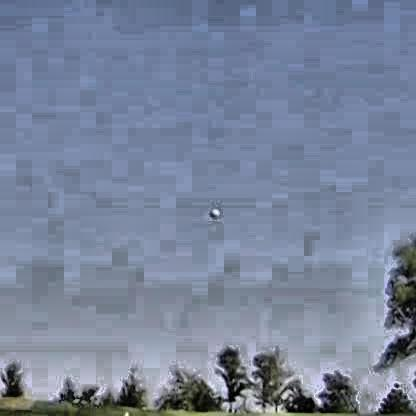golfball: (207, 206, 217, 214)
